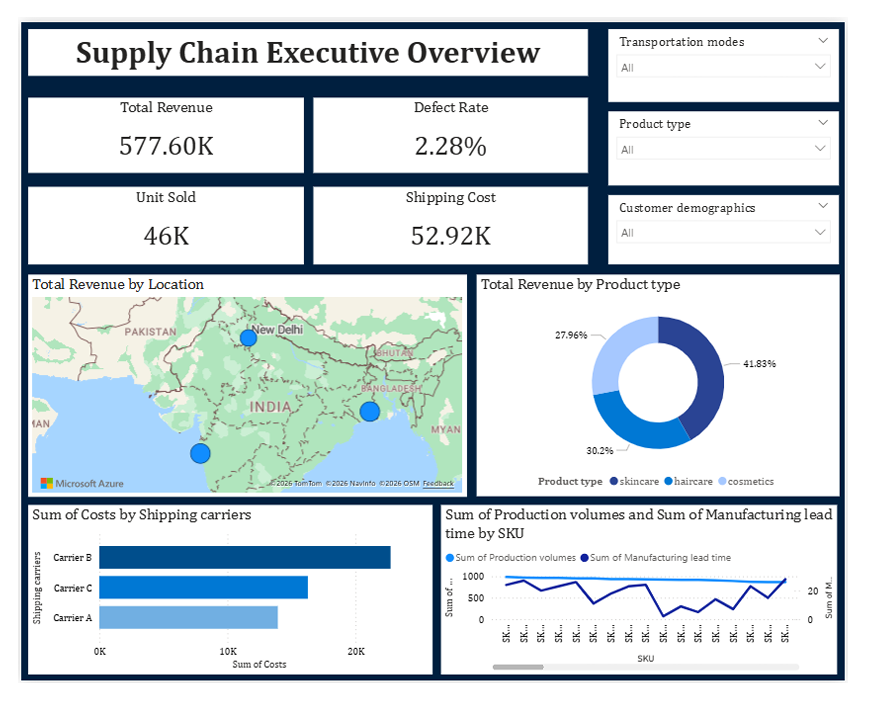

What the dashboard file says about the page in this screenshot:
{"tool":"powerbi","page":{"name":"Page 1","canvas":[1000,800],"ordinal":0},"visuals":[{"type":"cardVisual","title":"Total Revenue","fields":{"Data":["supply_chain_data.Total Revenue"]},"box":[8.7,91.4,335.2,91.4],"z":0},{"type":"cardVisual","title":"Unit Sold","fields":{"Data":["supply_chain_data.Total Units Sold"]},"box":[8.7,200.2,335.2,94.3],"z":1000},{"type":"cardVisual","title":"Shipping Cost","fields":{"Data":["supply_chain_data.Shipping Cost %"]},"box":[355.5,200.2,333.7,94.3],"z":2000},{"type":"cardVisual","title":"Defect Rate","fields":{"Data":["supply_chain_data.Avg Defect Rate"]},"box":[355.5,91.4,333.7,91.4],"z":3000},{"type":"azureMap","fields":{"Category":["supply_chain_data.Location"],"Size":["supply_chain_data.Total Revenue"]},"box":[8.7,306.1,532.5,269.9],"z":4000},{"type":"donutChart","fields":{"Category":["supply_chain_data.Product type"],"Y":["supply_chain_data.Total Revenue"]},"box":[552.8,306.1,441.1,269.9],"z":5000},{"type":"clusteredBarChart","fields":{"Category":["supply_chain_data.Shipping carriers"],"Y":["Sum(supply_chain_data.Costs)"]},"box":[8.7,586.2,491.8,206],"z":6000},{"type":"lineChart","fields":{"Category":["supply_chain_data.SKU"],"Y":["Sum(supply_chain_data.Production volumes)"],"Y2":["Sum(supply_chain_data.Manufacturing lead time)"]},"box":[510.7,586.2,481.7,206],"z":7000},{"type":"slicer","fields":{"Values":["supply_chain_data.Product type"]},"box":[713.8,108.8,280,90],"z":8000},{"type":"slicer","fields":{"Values":["supply_chain_data.Transportation modes"]},"box":[713.8,8.7,280,88.5],"z":9000},{"type":"textbox","box":[8.7,8.7,680.5,56.6],"z":10000},{"type":"slicer","fields":{"Values":["supply_chain_data.Customer demographics"]},"box":[713.8,210.4,280,84.2],"z":11000}]}

Visuals, with their boxes in screenshot pixels (x1, y1, x2, y2), scaled from the page's 1000x800 canvas onto the 870x709 screenshot:
"Total Revenue" cardVisual: select_region(8, 81, 299, 162)
"Unit Sold" cardVisual: select_region(8, 177, 299, 261)
"Shipping Cost" cardVisual: select_region(309, 177, 600, 261)
"Defect Rate" cardVisual: select_region(309, 81, 600, 162)
azureMap - supply_chain_data.Location x supply_chain_data.Total Revenue: select_region(8, 271, 471, 510)
donutChart - supply_chain_data.Product type x supply_chain_data.Total Revenue: select_region(481, 271, 865, 510)
clusteredBarChart - supply_chain_data.Shipping carriers x Sum(supply_chain_data.Costs): select_region(8, 520, 435, 702)
lineChart - supply_chain_data.SKU x Sum(supply_chain_data.Production volumes): select_region(444, 520, 863, 702)
slicer - supply_chain_data.Product type: select_region(621, 96, 865, 176)
slicer - supply_chain_data.Transportation modes: select_region(621, 8, 865, 86)
textbox: select_region(8, 8, 600, 58)
slicer - supply_chain_data.Customer demographics: select_region(621, 186, 865, 261)
